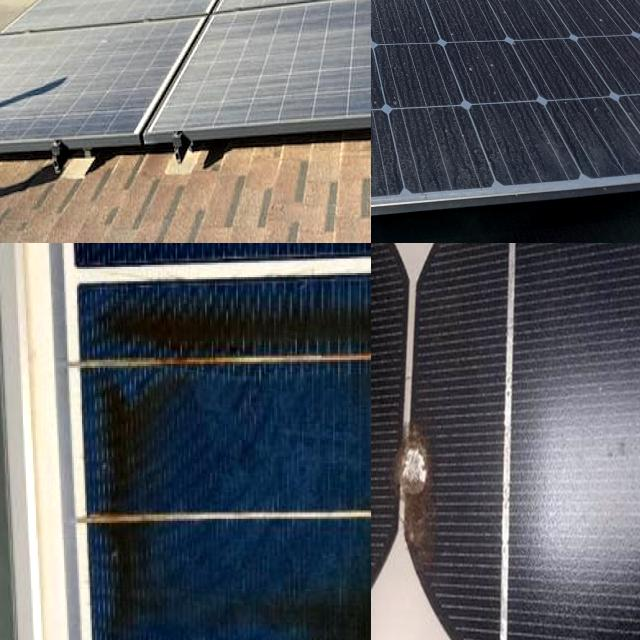dust: (473, 0, 640, 166), (371, 1, 474, 199), (0, 36, 206, 114), (371, 0, 455, 188), (222, 0, 371, 105), (467, 0, 542, 53), (371, 0, 422, 61), (371, 0, 445, 39), (69, 0, 206, 20), (371, 0, 417, 57), (246, 0, 371, 20), (371, 0, 471, 25), (284, 0, 371, 20), (132, 0, 244, 11), (223, 0, 279, 18), (314, 0, 371, 17), (172, 0, 280, 7)
shadow: (91, 284, 371, 640), (386, 394, 461, 580), (371, 369, 403, 478)
